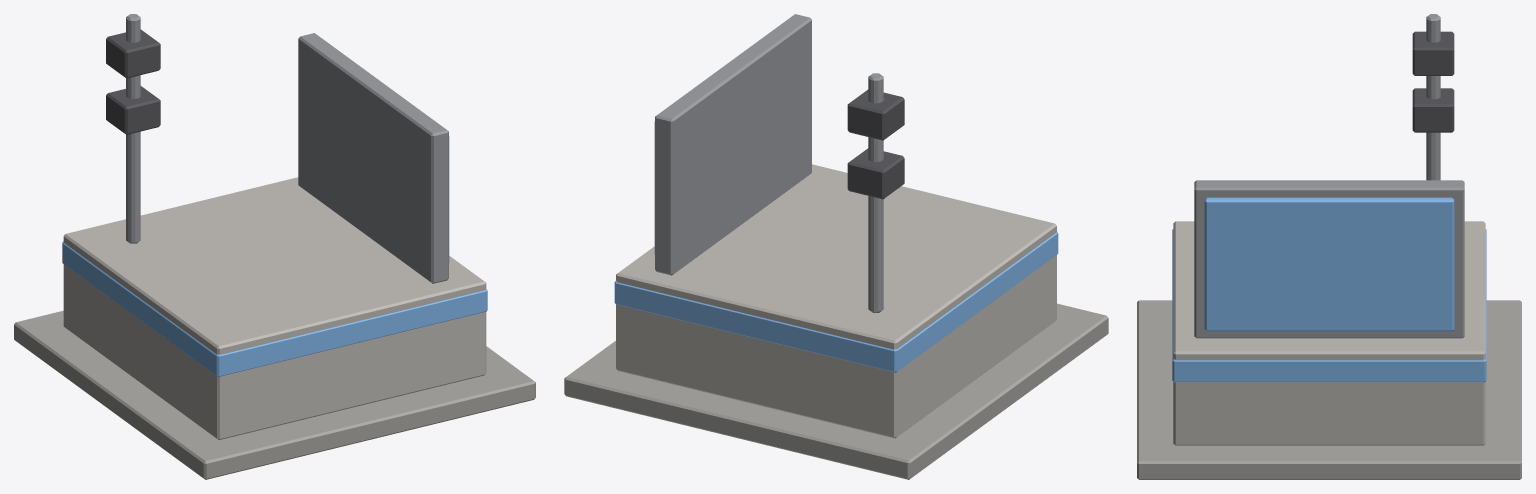
File: propaganda_center.glb
3 renders of one model, left to right at view 1: azimuth 30°, elevation 25°; view 2: azimuth 150°, elevation 25°; view 3: azimuth 270°, elevation 25°, orthographic. The views are drawn at different scales.
Visible parts, largest first — view 1: propaganda_center; view 2: propaganda_center; view 3: propaganda_center.
Boxes of the visible parts, x1,y1,x2,y2 form: propaganda_center: [14, 14, 535, 479]; propaganda_center: [564, 14, 1108, 479]; propaganda_center: [1137, 14, 1521, 479].
Size of the model in its own units: 3.7 by 3.6 by 3.7.
